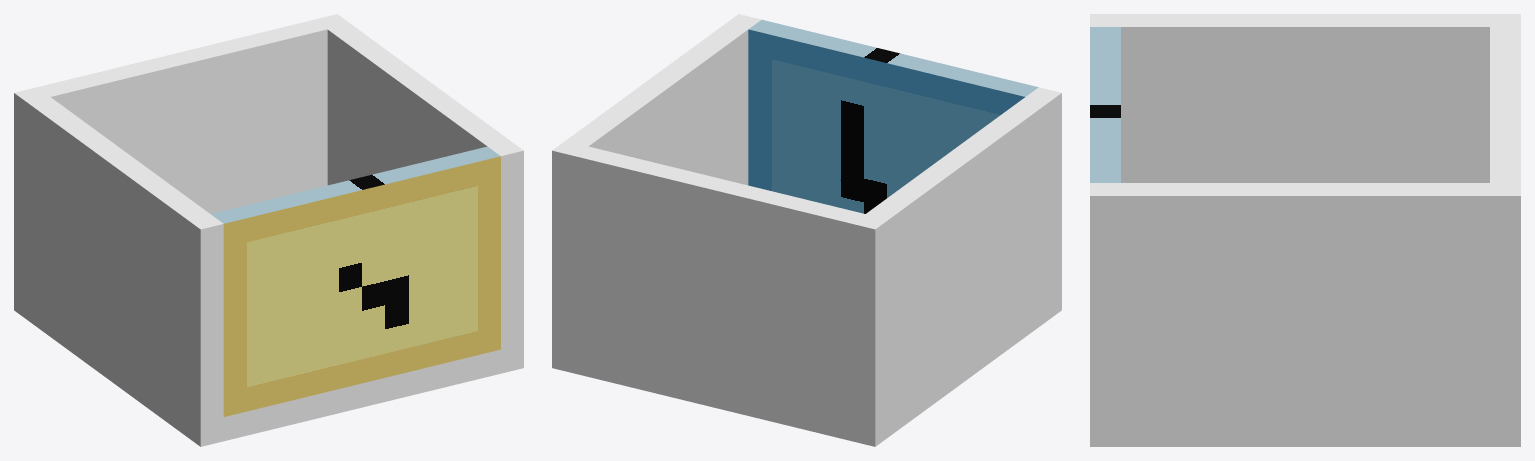
3 views of the same model, side by side, from view 1: azimuth 30°, elevation 25°; view 2: azimuth 150°, elevation 25°; view 3: azimuth 270°, elevation 25° (orthographic). The views are drawn at different scales.
Visible parts, largest first — view 1: cube (×5); view 2: cube (×5); view 3: cube (×5).
Boxes of the visible parts, x1,y1,x2,y2 form: cube (×5): [14, 14, 523, 446]; cube (×5): [552, 14, 1061, 446]; cube (×5): [1090, 14, 1520, 446].
Bounding box in the file's own units: 0.875 × 0.5625 × 0.875.
3 materials, 1 textured.
